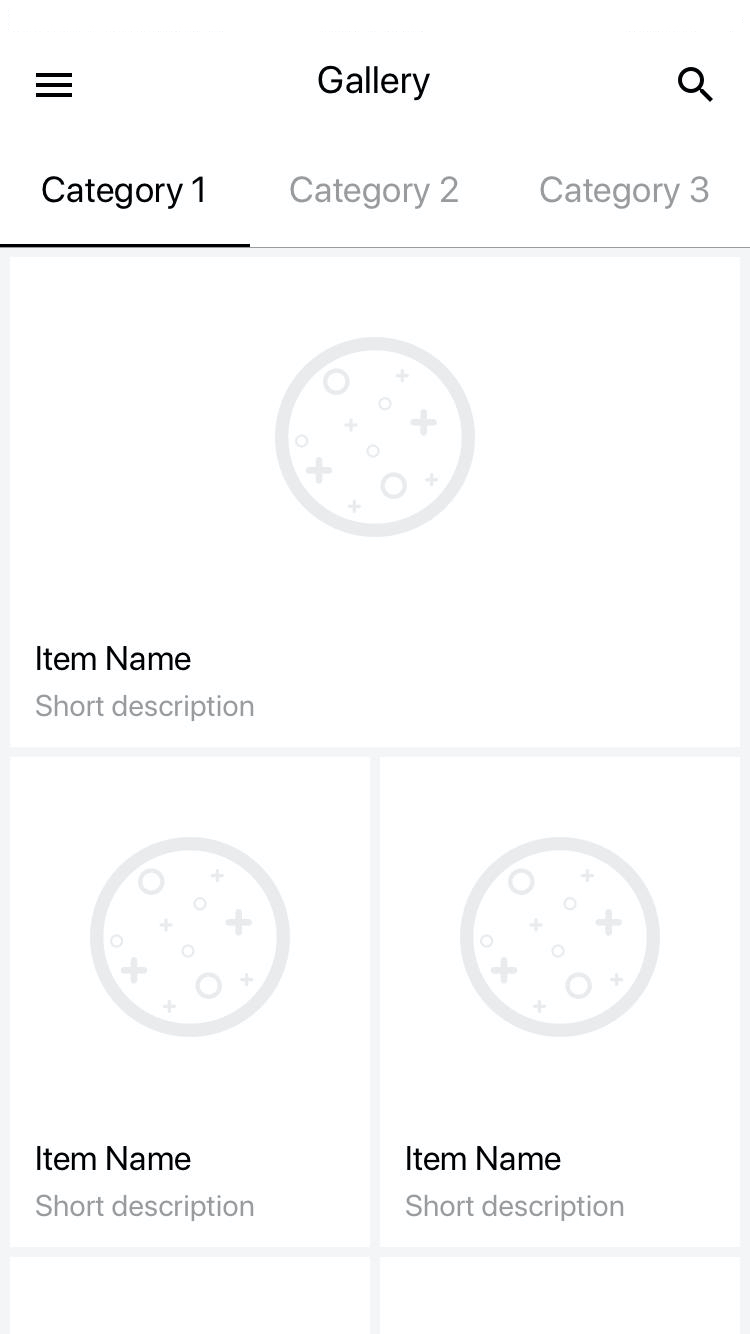Card: (9, 256, 742, 750), (379, 756, 742, 1248), (9, 756, 372, 1248)
Icon: (678, 67, 714, 103), (36, 73, 74, 99)
Image: (460, 837, 660, 1036), (276, 338, 474, 538), (91, 837, 290, 1034)
Text: (36, 1192, 255, 1222), (407, 1193, 624, 1222), (36, 694, 255, 722), (290, 176, 459, 211), (541, 177, 709, 210), (42, 177, 205, 211), (37, 645, 193, 672), (406, 1145, 562, 1172), (37, 1144, 192, 1171), (318, 66, 431, 102)
